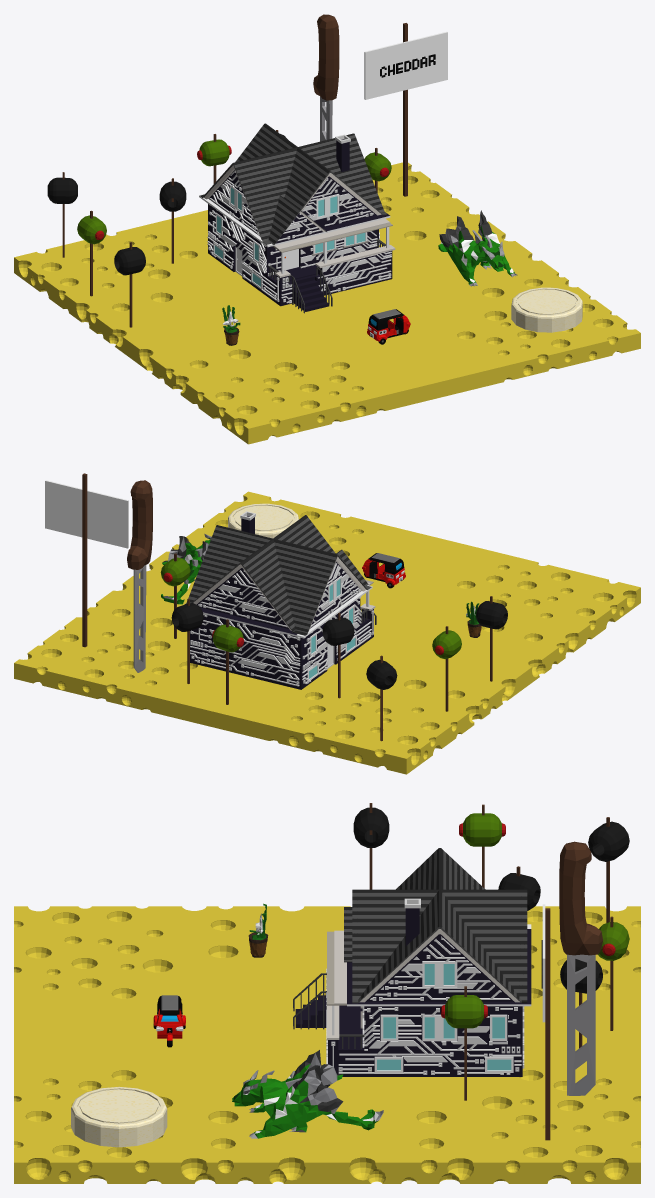
3 renders of one model, top to bottom at view 1: azimuth 30°, elevation 25°; view 2: azimuth 150°, elevation 25°; view 3: azimuth 270°, elevation 25°, orthographic. The views are drawn at different scales.
Visible parts, largest first — view 1: Cube.022, Cube.918, Cube.023, Cylinder.016, ANIMAL_DRAGON, Cube.024, VEHICLES_TUC_TUC, Sphere.017, Sphere.016, Sphere.020, Sphere.018, Sphere.022 (+1 smaller); view 2: Cube.022, Cube.918, Cube.023, Cube.024, Cylinder.016, ANIMAL_DRAGON, VEHICLES_TUC_TUC, Sphere.017, Sphere.020, Sphere.021, Sphere.016, Sphere.018 (+2 smaller); view 3: Cube.022, Cube.918, Cube.024, ANIMAL_DRAGON, Cylinder.016, Cube.023, Sphere.019, Sphere.016, Sphere.018, Sphere.017, VEHICLES_TUC_TUC, Sphere.022 (+3 smaller).
Boxes of the visible parts, bbox=[...] form: Cube.022: bbox=[14, 162, 640, 444]; Cube.918: bbox=[199, 123, 395, 313]; Cube.023: bbox=[364, 23, 447, 196]; Cylinder.016: bbox=[511, 287, 582, 332]; ANIMAL_DRAGON: bbox=[438, 210, 517, 286]; Cube.024: bbox=[313, 14, 339, 141]; VEHICLES_TUC_TUC: bbox=[367, 309, 410, 344]; Sphere.017: bbox=[114, 242, 145, 327]; Sphere.016: bbox=[47, 172, 77, 257]; Sphere.020: bbox=[159, 178, 186, 263]; Sphere.018: bbox=[77, 210, 106, 296]; Sphere.022: bbox=[197, 134, 231, 183]; Cube.022: bbox=[14, 491, 640, 774]; Cube.918: bbox=[184, 511, 376, 689]; Cube.023: bbox=[45, 473, 128, 647]; Cube.024: bbox=[127, 480, 152, 672]; Cylinder.016: bbox=[228, 503, 298, 538]; ANIMAL_DRAGON: bbox=[161, 533, 211, 604]; VEHICLES_TUC_TUC: bbox=[362, 553, 405, 588]; Sphere.017: bbox=[476, 596, 507, 681]; Sphere.020: bbox=[322, 612, 354, 698]; Sphere.021: bbox=[171, 598, 203, 683]; Sphere.016: bbox=[366, 655, 397, 741]; Sphere.018: bbox=[432, 626, 461, 711]; Cube.022: bbox=[14, 906, 640, 1183]; Cube.918: bbox=[293, 848, 531, 1076]; Cube.024: bbox=[559, 841, 602, 1095]; ANIMAL_DRAGON: bbox=[232, 1050, 383, 1138]; Cylinder.016: bbox=[71, 1086, 167, 1147]; Cube.023: bbox=[541, 904, 550, 1140]; Sphere.019: bbox=[441, 986, 487, 1100]; Sphere.016: bbox=[588, 817, 629, 922]; Sphere.018: bbox=[459, 804, 505, 888]; Sphere.017: bbox=[353, 803, 389, 889]; VEHICLES_TUC_TUC: bbox=[153, 995, 185, 1047]; Sphere.022: bbox=[598, 916, 629, 1030].
Size of the model in its own units: 3917 by 2108 by 4000.
41 materials, 3 textured.
